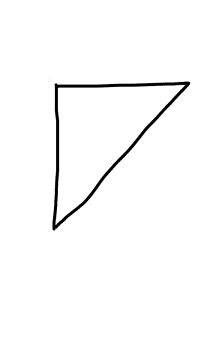Triangle: (49, 78, 194, 233)
